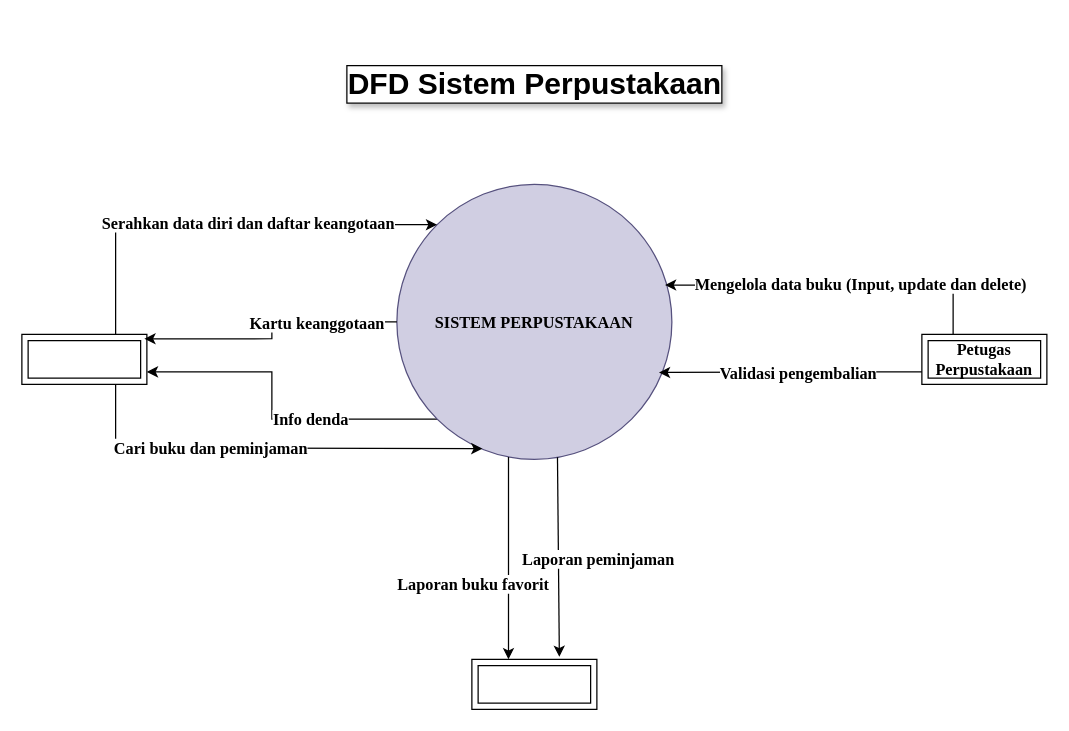
Image size: 1069x731. Some labels were removed from this diagram. The centre of each missing label's shape, as x and y in pixels:
"Kepala Perpustakaan" goes at (x=534, y=683).
"Mahasiswa" goes at (x=84, y=358).
